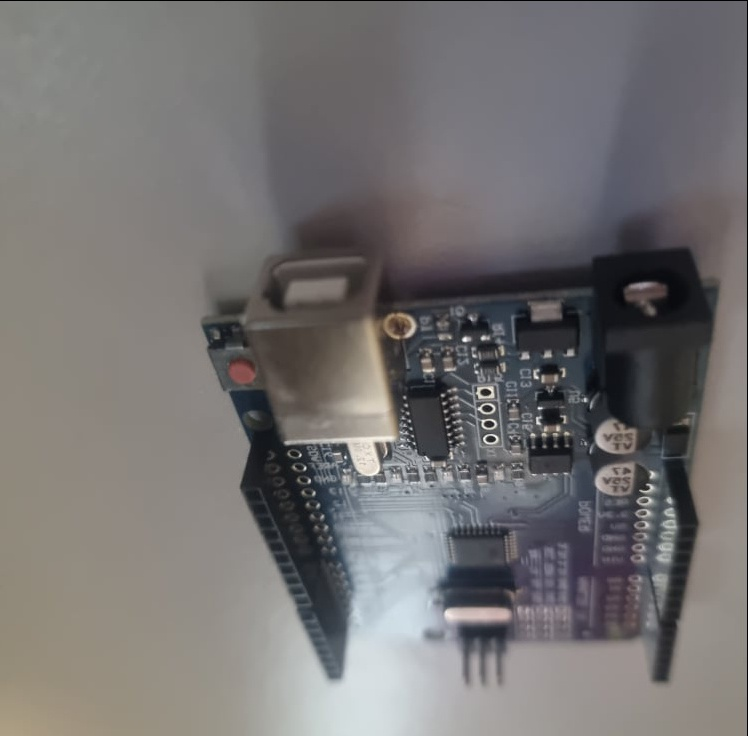UNO R3: (199, 233, 727, 684)
